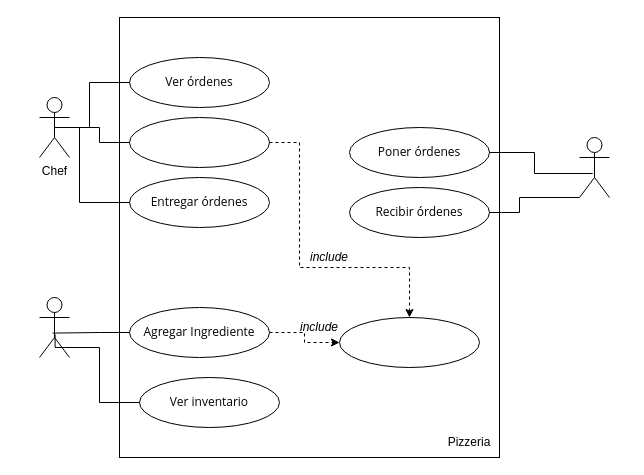
Image size: 644x475. Some labels were removed from this diagram. The centre of each missing label's shape, as x and y in pixels:
Actualizar inventario: pixel 409 342
Administrador: pixel 54 327
Cocinar órdenes: pixel 199 142
Consumidor: pixel 594 167
